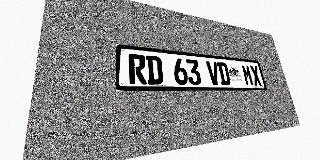3: (186, 59, 202, 85)
6: (172, 58, 189, 85)
D: (146, 55, 163, 85), (217, 62, 231, 85)
M: (241, 64, 254, 86)
R: (128, 53, 147, 84)
V: (206, 61, 221, 85)
X: (249, 65, 262, 86)
